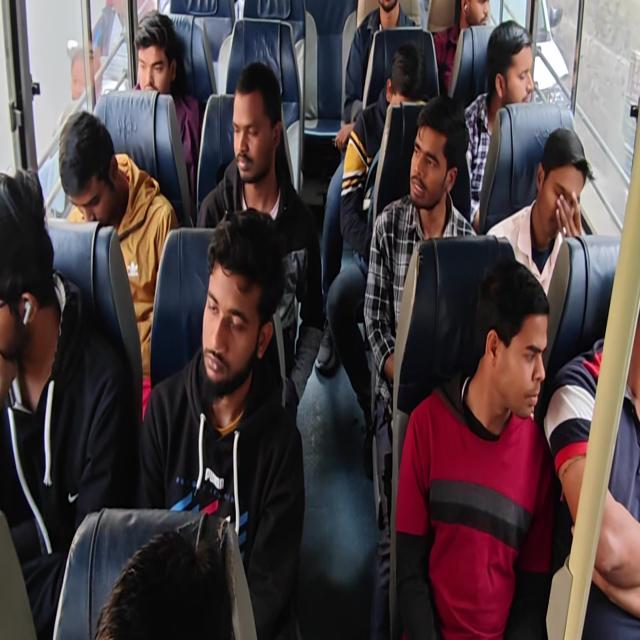person: (1, 1, 637, 638), (137, 207, 306, 638), (362, 94, 478, 637), (0, 166, 133, 637), (394, 258, 556, 638), (195, 61, 325, 423), (325, 42, 427, 476), (59, 110, 180, 420), (542, 313, 639, 638), (339, 42, 426, 259), (486, 125, 592, 296), (95, 529, 235, 639), (463, 19, 535, 230), (334, 0, 420, 158), (131, 9, 200, 202), (37, 46, 101, 219), (432, 0, 490, 96), (54, 46, 99, 138)
